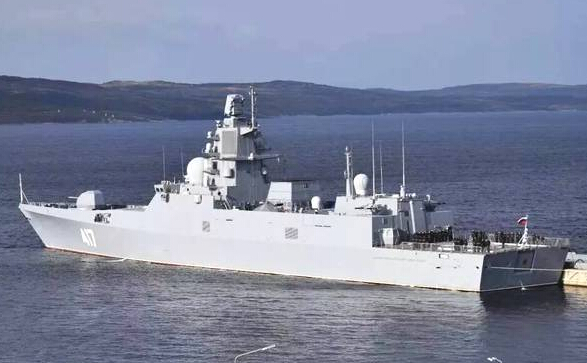warship: (12, 83, 571, 294)
